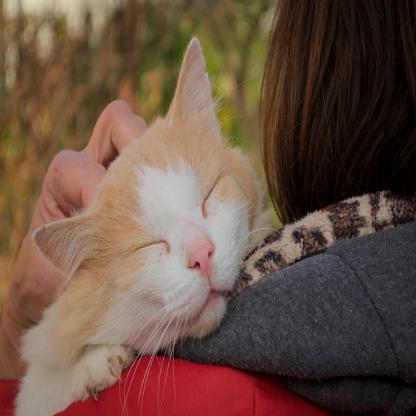cat: (15, 40, 260, 408)
